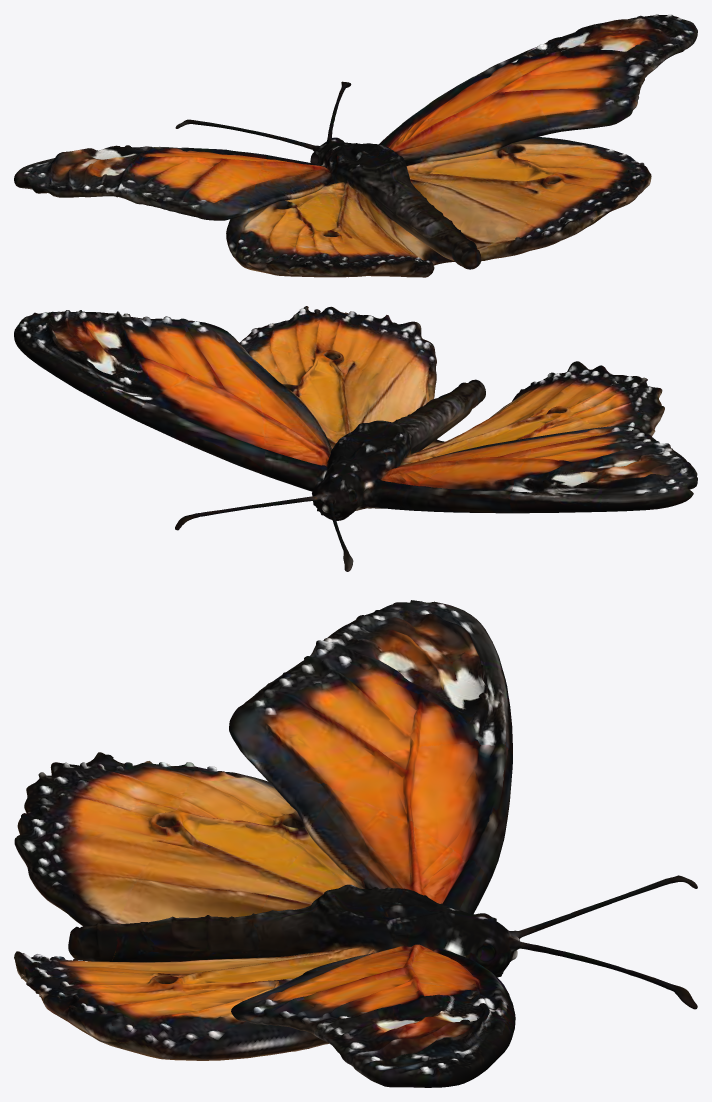
The model's file is butterfly.glb.
The picture shows the model from 3 angles, top to bottom: view 1: azimuth 30°, elevation 25°; view 2: azimuth 150°, elevation 25°; view 3: azimuth 270°, elevation 25°; orthographic projection. The views are drawn at different scales.
Parts seen in each view (by area): view 1: tripo_node_cc2f36b0-0c41-4c7a-8ce0-ebd8cb7ea59f; view 2: tripo_node_cc2f36b0-0c41-4c7a-8ce0-ebd8cb7ea59f; view 3: tripo_node_cc2f36b0-0c41-4c7a-8ce0-ebd8cb7ea59f.
Part boxes in pixels (<box>): tripo_node_cc2f36b0-0c41-4c7a-8ce0-ebd8cb7ea59f: <box>14,14,697,277</box>; tripo_node_cc2f36b0-0c41-4c7a-8ce0-ebd8cb7ea59f: <box>14,306,697,571</box>; tripo_node_cc2f36b0-0c41-4c7a-8ce0-ebd8cb7ea59f: <box>14,600,697,1087</box>.
Size of the model in its own units: 0.981 by 0.1562 by 0.5928.
Materials: 1 (1 with a texture image).
